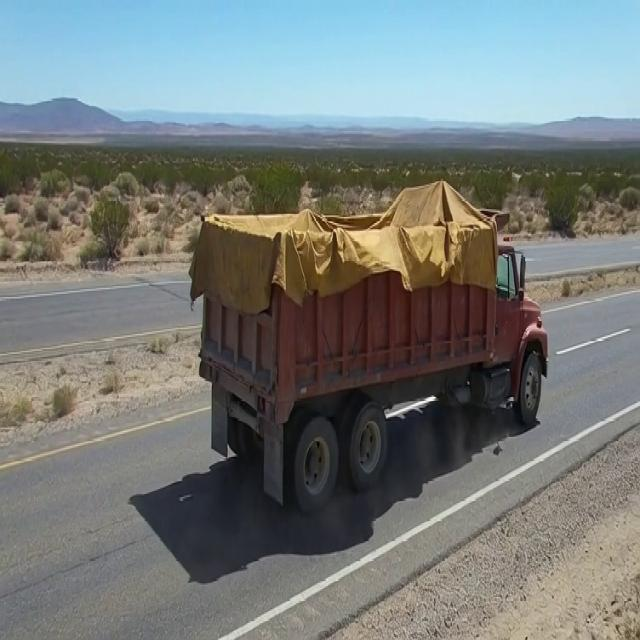trailer: (190, 187, 506, 292)
truck: (182, 129, 556, 504)
